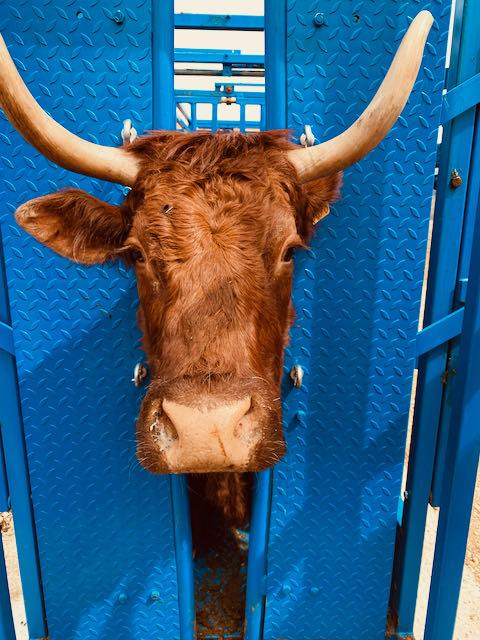muzzles: (129, 388, 294, 484)
